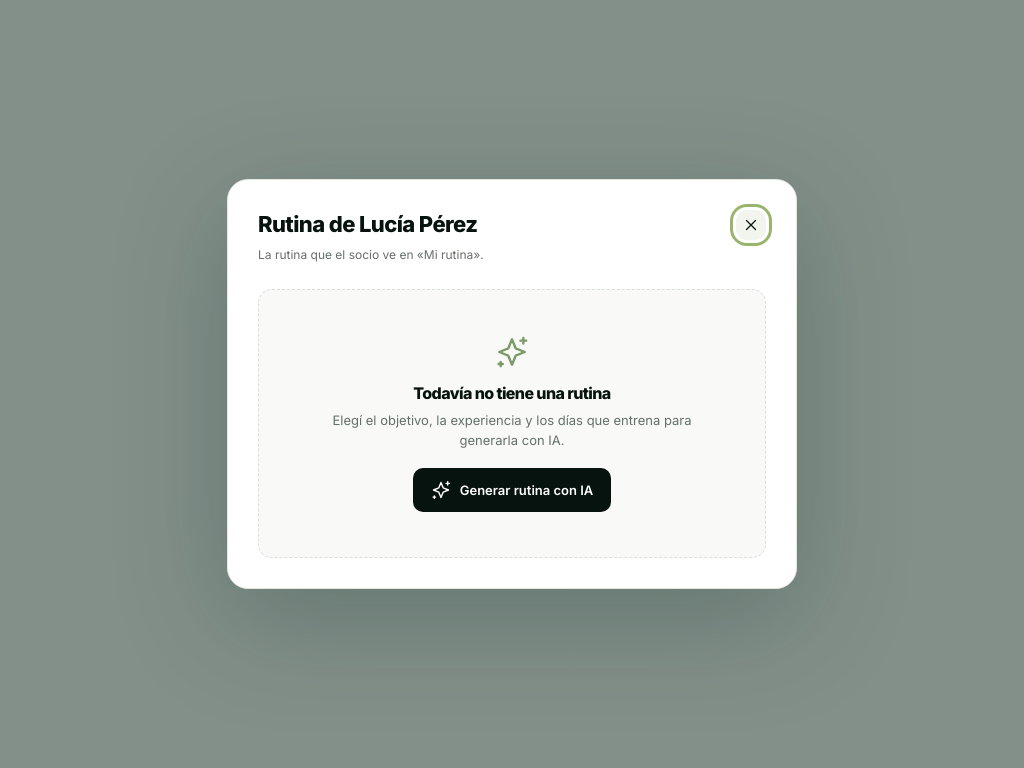
it: Rutina del socio (personal) › genera la rutina con IA y edita un ejercicio por las rutas del personal
The width and height of the screenshot is (1024, 768).
Later steps or results of the test are not shown.
Expected: the heading "Todavía no tiene una rutina" is shown, left=413, top=383, right=611, bottom=403
Click the button "Generar rutina con IA" at {"x": 512, "y": 490}, box left=413, top=468, right=611, bottom=512
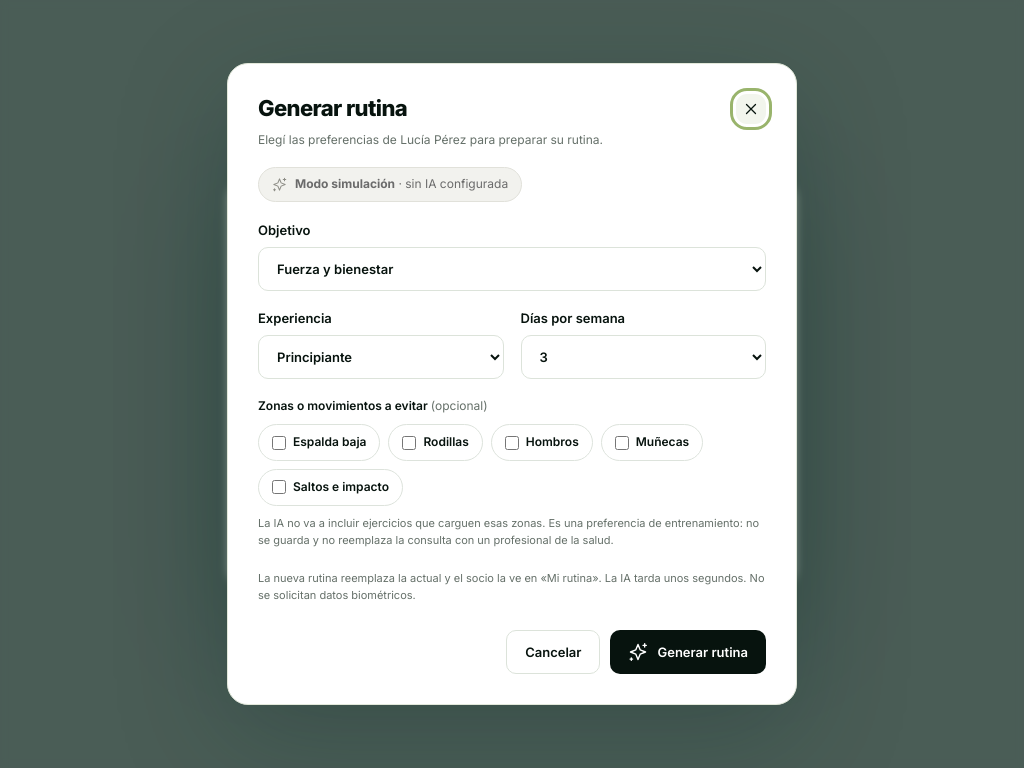
Expected: the text "Elegí las preferencias de Lucía Pérez para preparar su rutina." is shown, left=258, top=130, right=603, bottom=150
Select "Hipertrofia" in the dropdown labelled "Objetivo" at {"x": 512, "y": 269}, box left=258, top=247, right=766, bottom=291
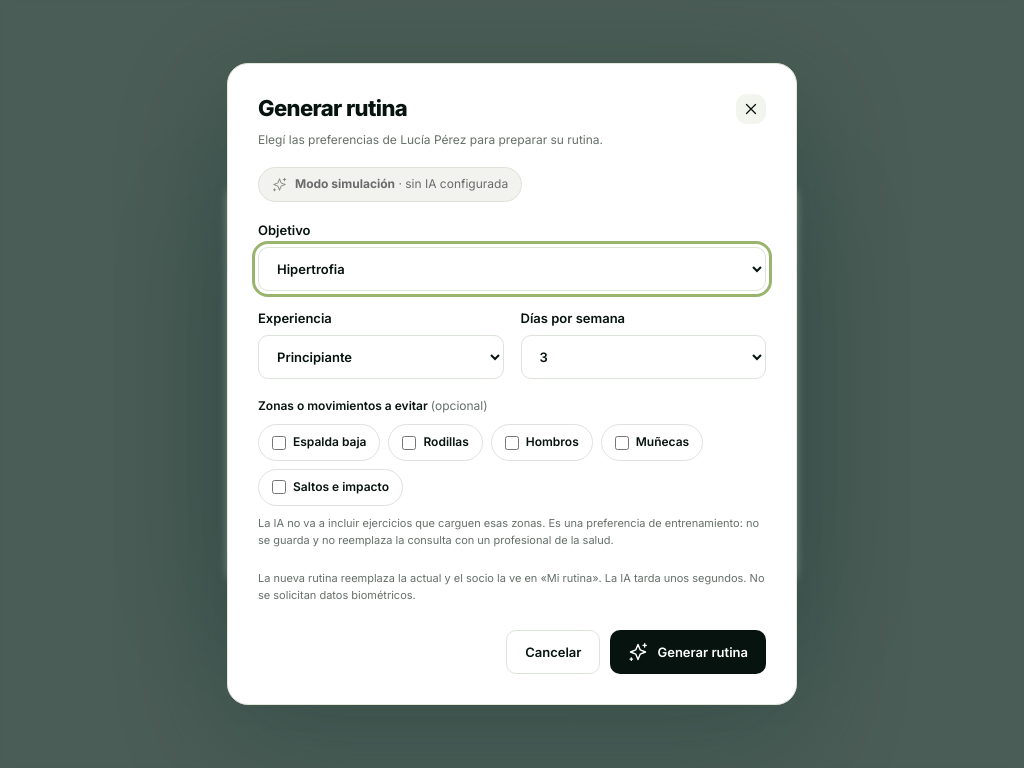
Click the button "Generar rutina" at {"x": 688, "y": 652}, box left=610, top=630, right=766, bottom=674
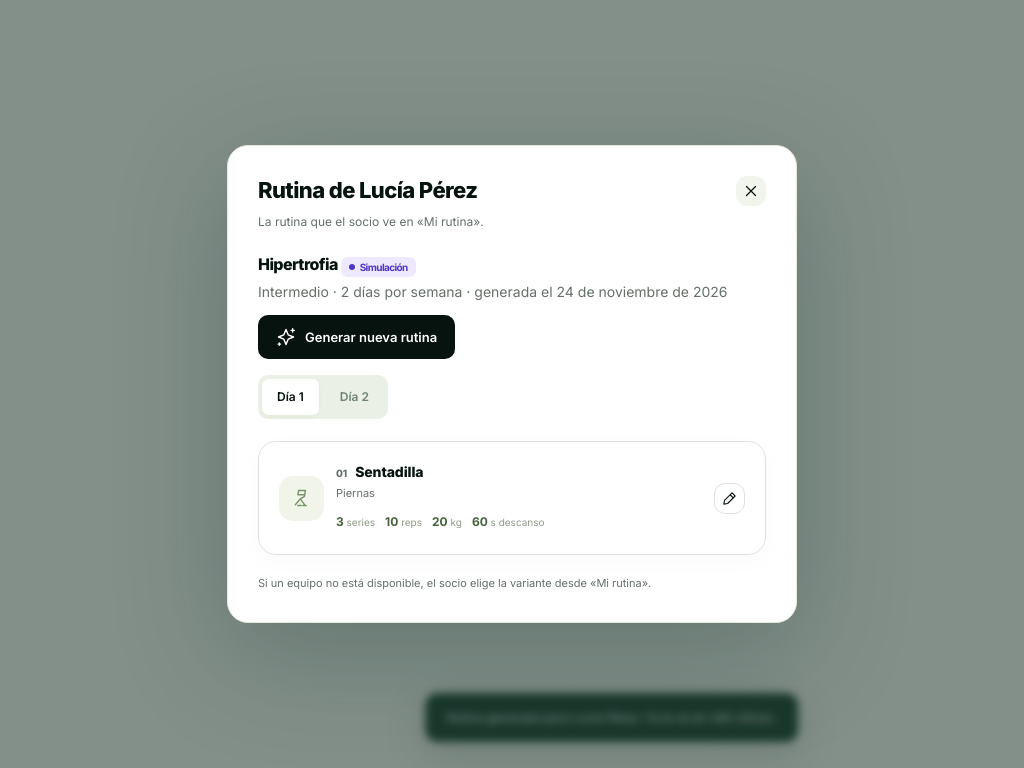
Expected: the heading "01 Sentadilla" is shown, left=336, top=463, right=423, bottom=480
Click the button named "Editar Sentadilla" at {"x": 730, "y": 498}, box left=714, top=483, right=745, bottom=514
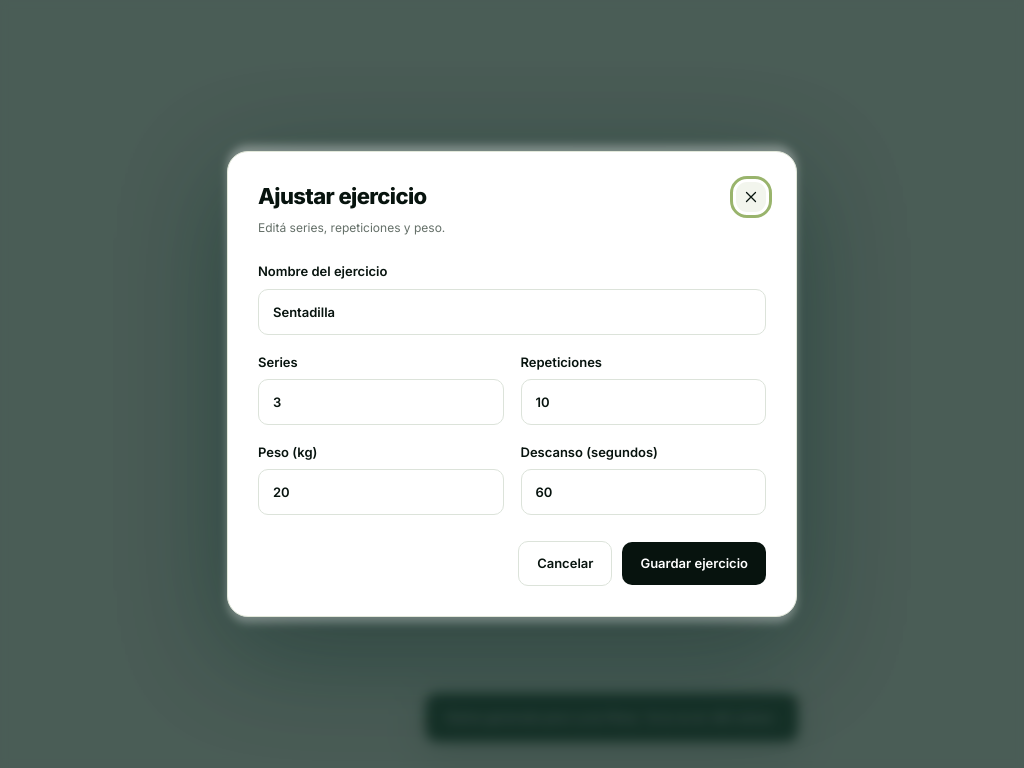
Expected: the heading "Ajustar ejercicio" is shown, left=258, top=182, right=445, bottom=211
